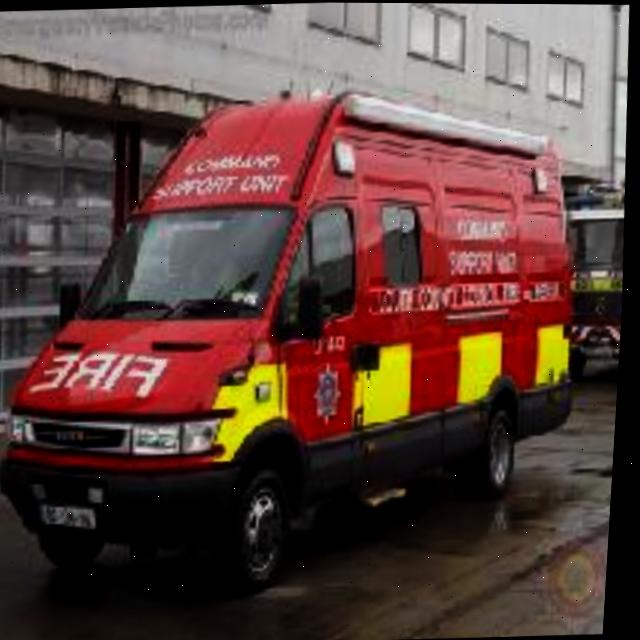emergency: (0, 95, 596, 582)
